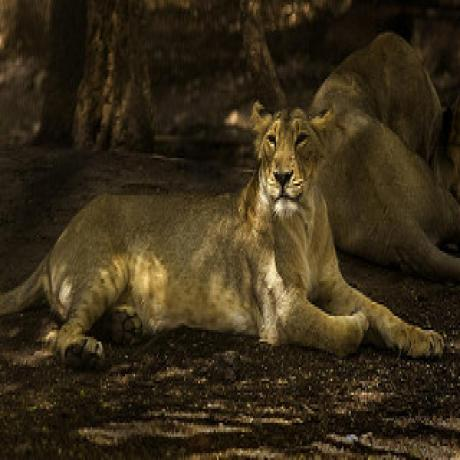Lion: (29, 97, 446, 378), (310, 21, 460, 277)
